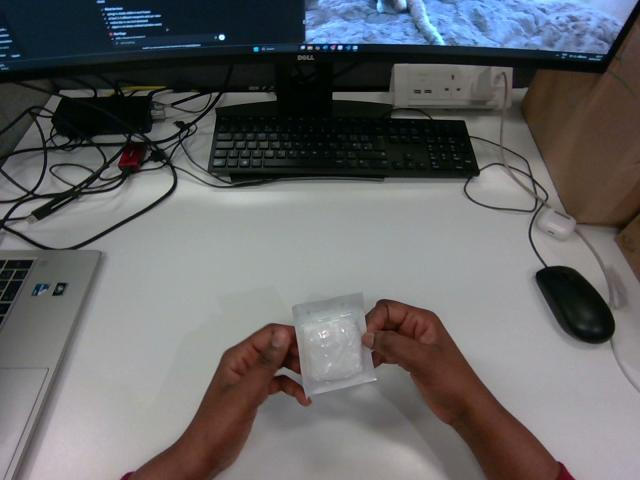gauze: (293, 293, 375, 395)
